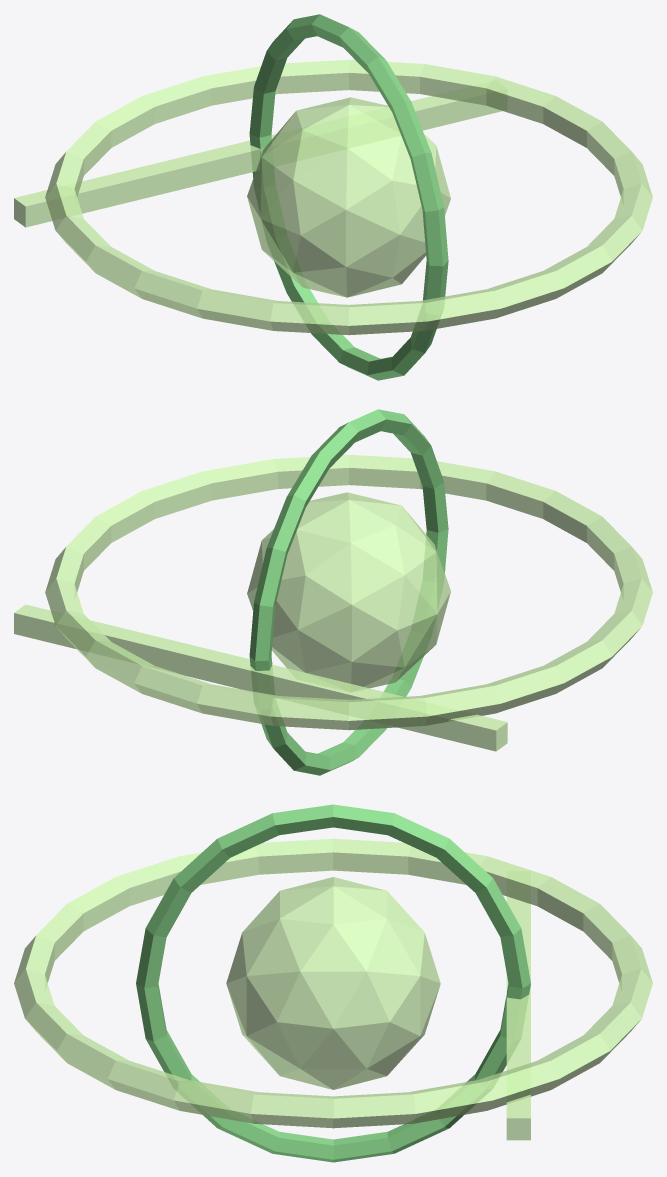
File: 01_emissive_glow_overlay_1.glb
The picture shows the model from 3 angles, top to bottom: view 1: azimuth 30°, elevation 25°; view 2: azimuth 150°, elevation 25°; view 3: azimuth 270°, elevation 25°; orthographic projection. The views are drawn at different scales.
Parts seen in each view (by area): view 1: emissive_outer_ring, glow_core, emissive_inner_ring, emissive_strip; view 2: emissive_outer_ring, glow_core, emissive_inner_ring, emissive_strip; view 3: emissive_outer_ring, glow_core, emissive_inner_ring, emissive_strip.
Boxes of the visible parts, x1=… form: emissive_outer_ring: x1=45, y1=59, x2=652, y2=335; glow_core: x1=247, y1=97, x2=450, y2=297; emissive_inner_ring: x1=249, y1=14, x2=448, y2=380; emissive_strip: x1=14, y1=96, x2=502, y2=227; emissive_outer_ring: x1=45, y1=454, x2=652, y2=730; glow_core: x1=247, y1=492, x2=450, y2=688; emissive_inner_ring: x1=249, y1=409, x2=448, y2=775; emissive_strip: x1=14, y1=604, x2=507, y2=751; emissive_outer_ring: x1=14, y1=838, x2=652, y2=1128; glow_core: x1=226, y1=877, x2=440, y2=1089; emissive_inner_ring: x1=136, y1=804, x2=530, y2=1162; emissive_strip: x1=506, y1=896, x2=530, y2=1140.
Size of the model in its own units: 1.31 by 0.81 by 1.31.
